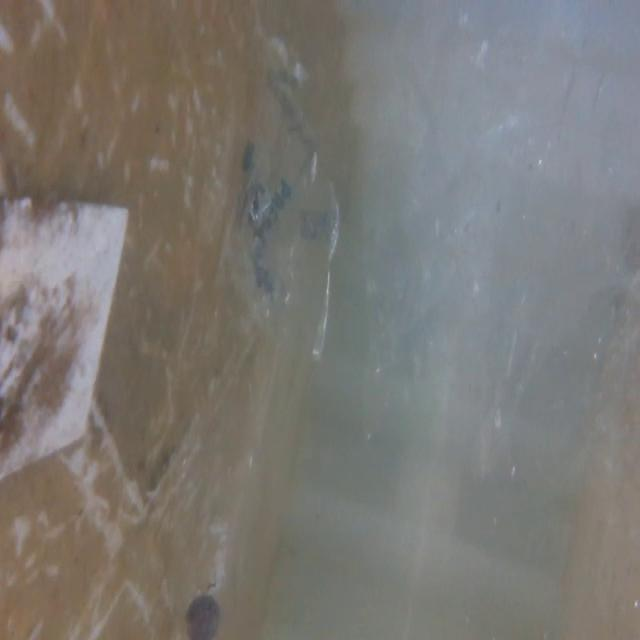metal: (0, 204, 135, 477)
plastic bags: (380, 0, 640, 504), (201, 12, 359, 372)
plastic bottle: (157, 413, 271, 640)
